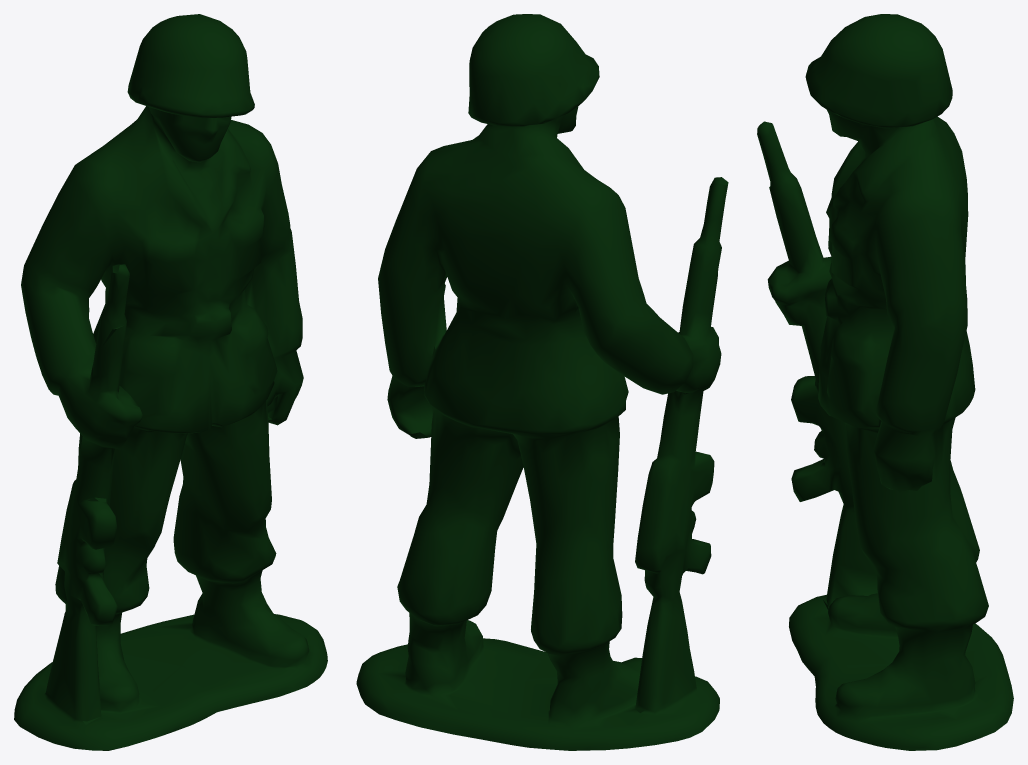
Rendered from GreenSoldier_Stand.fbx.
3 renders of one model, left to right at view 1: azimuth 30°, elevation 25°; view 2: azimuth 150°, elevation 25°; view 3: azimuth 270°, elevation 25°, orthographic.
Visible parts, largest first — view 1: GSoldier_Stand; view 2: GSoldier_Stand; view 3: GSoldier_Stand.
Boxes of the visible parts, x1,y1,x2,y2 form: GSoldier_Stand: (14, 14, 327, 750); GSoldier_Stand: (356, 14, 728, 750); GSoldier_Stand: (757, 14, 1013, 750).
Bounding box in the file's own units: 44.83 × 89.98 × 31.56.
